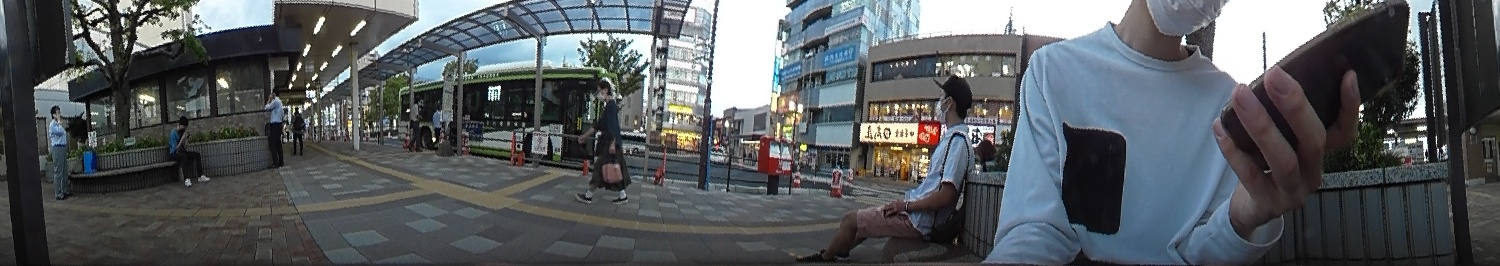difficult_person: (405, 99, 425, 149), (288, 103, 306, 158), (428, 102, 445, 148)
person: (801, 76, 976, 266), (573, 80, 640, 202), (163, 112, 209, 187), (47, 102, 72, 199), (262, 85, 287, 171)
